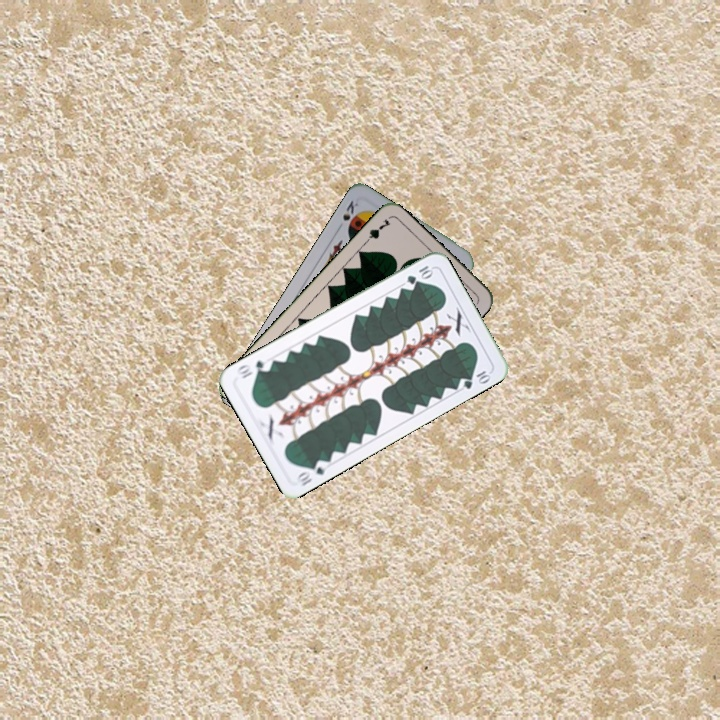G10: (292, 456, 331, 488), (403, 261, 436, 287)
G7: (359, 215, 394, 248)
SK: (339, 196, 361, 223)
